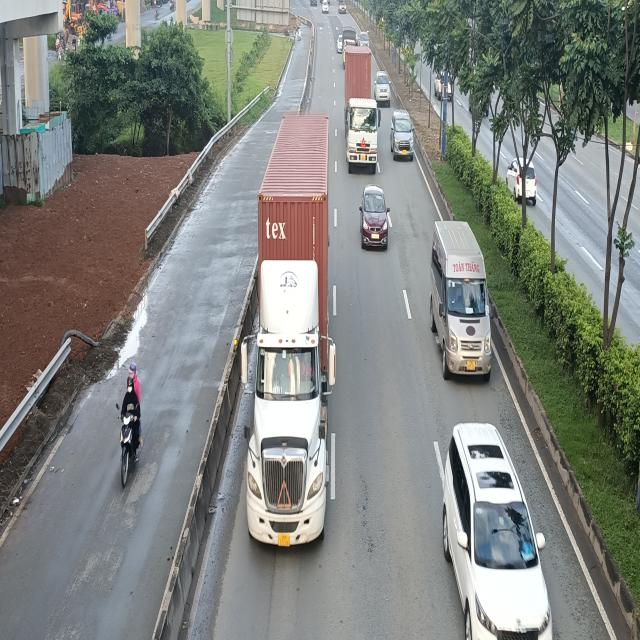car: (446, 425, 556, 640), (358, 186, 390, 250), (389, 111, 415, 163)
container: (242, 111, 338, 543), (344, 44, 381, 172)
van: (430, 218, 494, 380)
